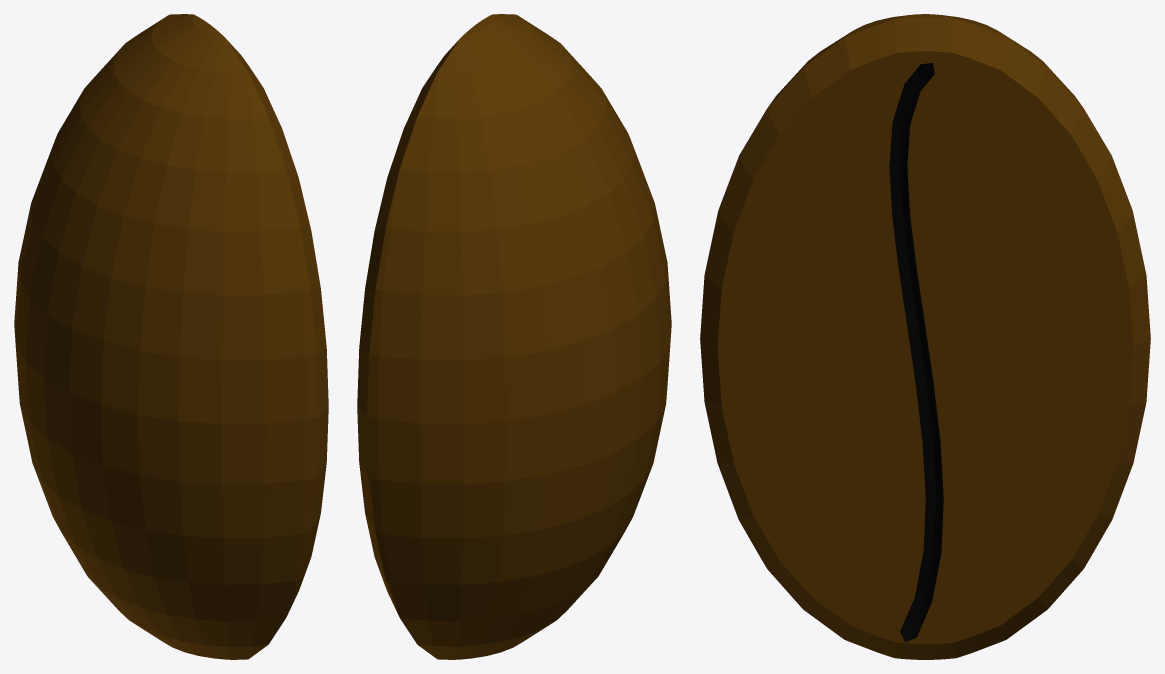
File: bean.fbx
3 renders of one model, left to right at view 1: azimuth 30°, elevation 25°; view 2: azimuth 150°, elevation 25°; view 3: azimuth 270°, elevation 25°, orthographic. The views are drawn at different scales.
Parts seen in each view (by area): view 1: Sphere; view 2: Sphere; view 3: Sphere.
Boxes of the visible parts, x1,y1,x2,y2 form: Sphere: [14, 14, 328, 659]; Sphere: [357, 14, 671, 659]; Sphere: [700, 14, 1150, 659].
Bounding box in the file's own units: 60.58 × 197 × 125.
